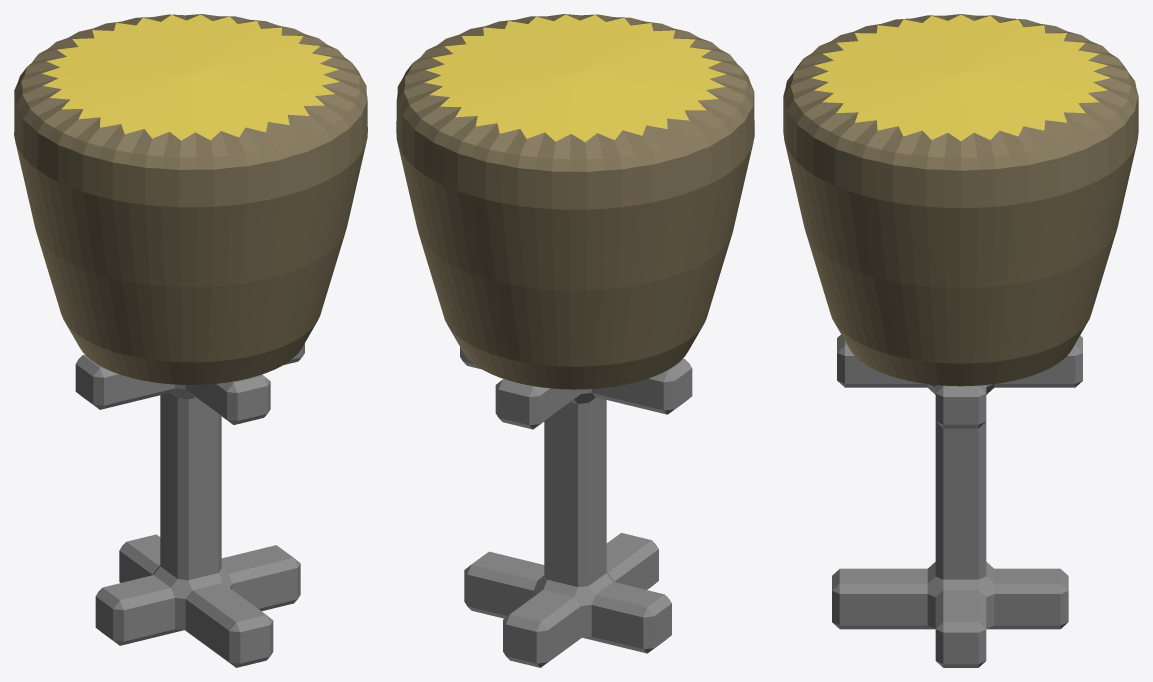
File: Drum2.fbx
The picture shows the model from 3 angles, left to right: view 1: azimuth 30°, elevation 25°; view 2: azimuth 150°, elevation 25°; view 3: azimuth 270°, elevation 25°; orthographic projection.
Parts seen in each view (by area): view 1: Цилиндр, Куб; view 2: Цилиндр, Куб; view 3: Цилиндр, Куб.
Part boxes in pixels (<box>): Цилиндр: <box>14,14,367,384</box>; Куб: <box>75,343,304,667</box>; Цилиндр: <box>396,14,754,389</box>; Куб: <box>460,347,692,667</box>; Цилиндр: <box>783,14,1138,386</box>; Куб: <box>832,334,1082,667</box>.
Bounding box in the file's own units: 247 × 422 × 247.
